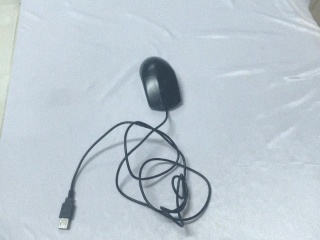mouse: (138, 56, 185, 113)
